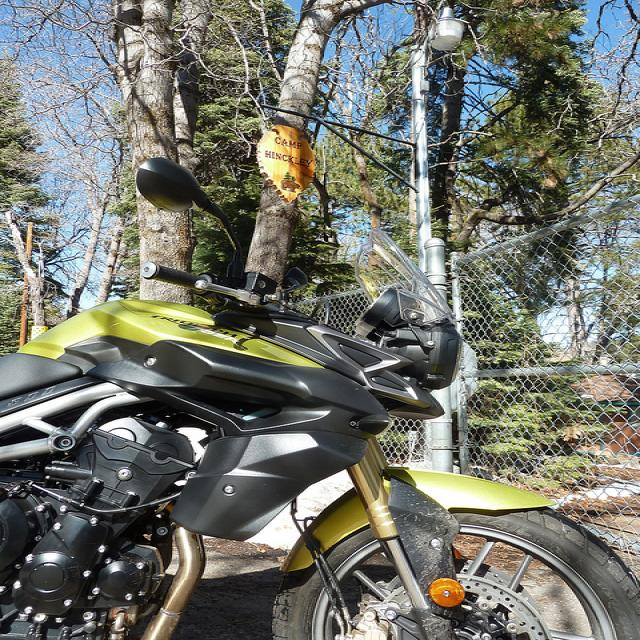motor: (8, 161, 627, 633)
